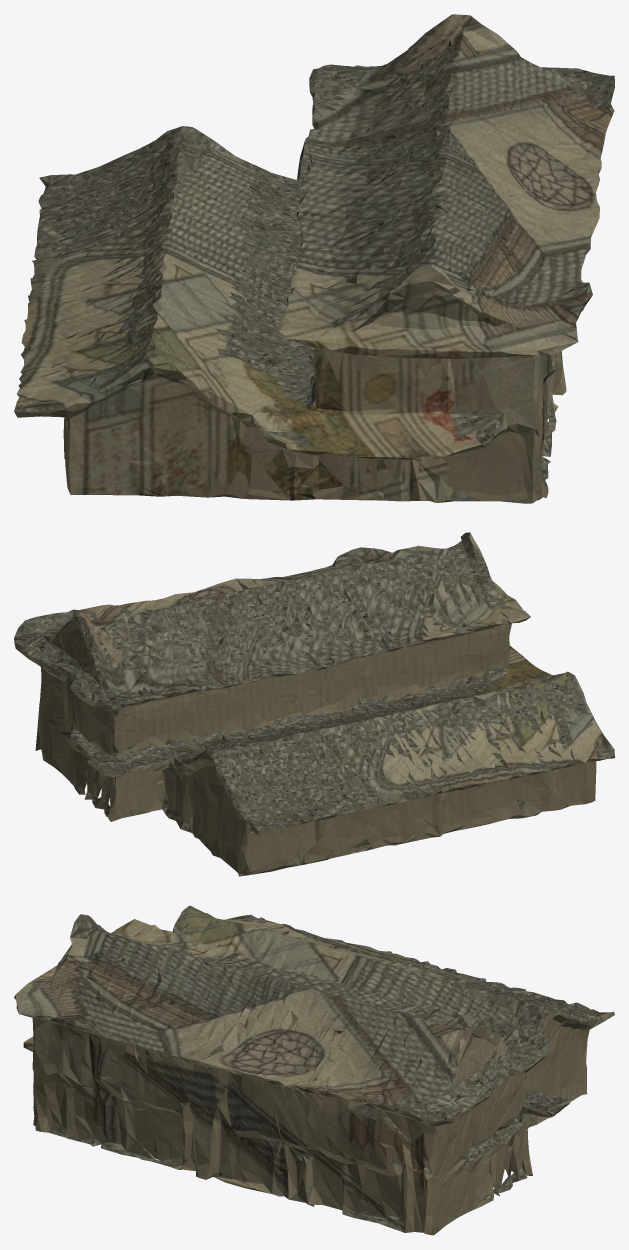
The picture shows the model from 3 angles, top to bottom: view 1: azimuth 30°, elevation 25°; view 2: azimuth 150°, elevation 25°; view 3: azimuth 270°, elevation 25°; orthographic projection. The views are drawn at different scales.
Visible parts, largest first — view 1: painted, roof, wall; view 2: roof, wall, painted; view 3: painted, wall, roof.
Part boxes in pixels (box(x1,y1,x2,y2)): painted: box(15, 14, 614, 502); roof: box(14, 36, 614, 503); wall: box(14, 74, 614, 503); roof: box(14, 532, 614, 865); wall: box(14, 537, 614, 876); painted: box(25, 532, 613, 803); painted: box(14, 906, 539, 1217); wall: box(19, 915, 613, 1235); roof: box(23, 905, 614, 1232).
Size of the model in its own units: 12.09 by 3.86 by 11.36.
3 materials, 3 textured.
